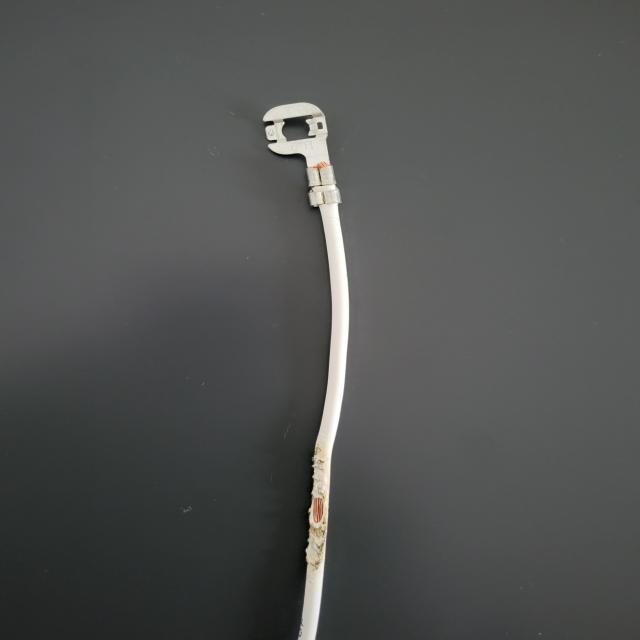defect: (258, 445, 383, 576)
